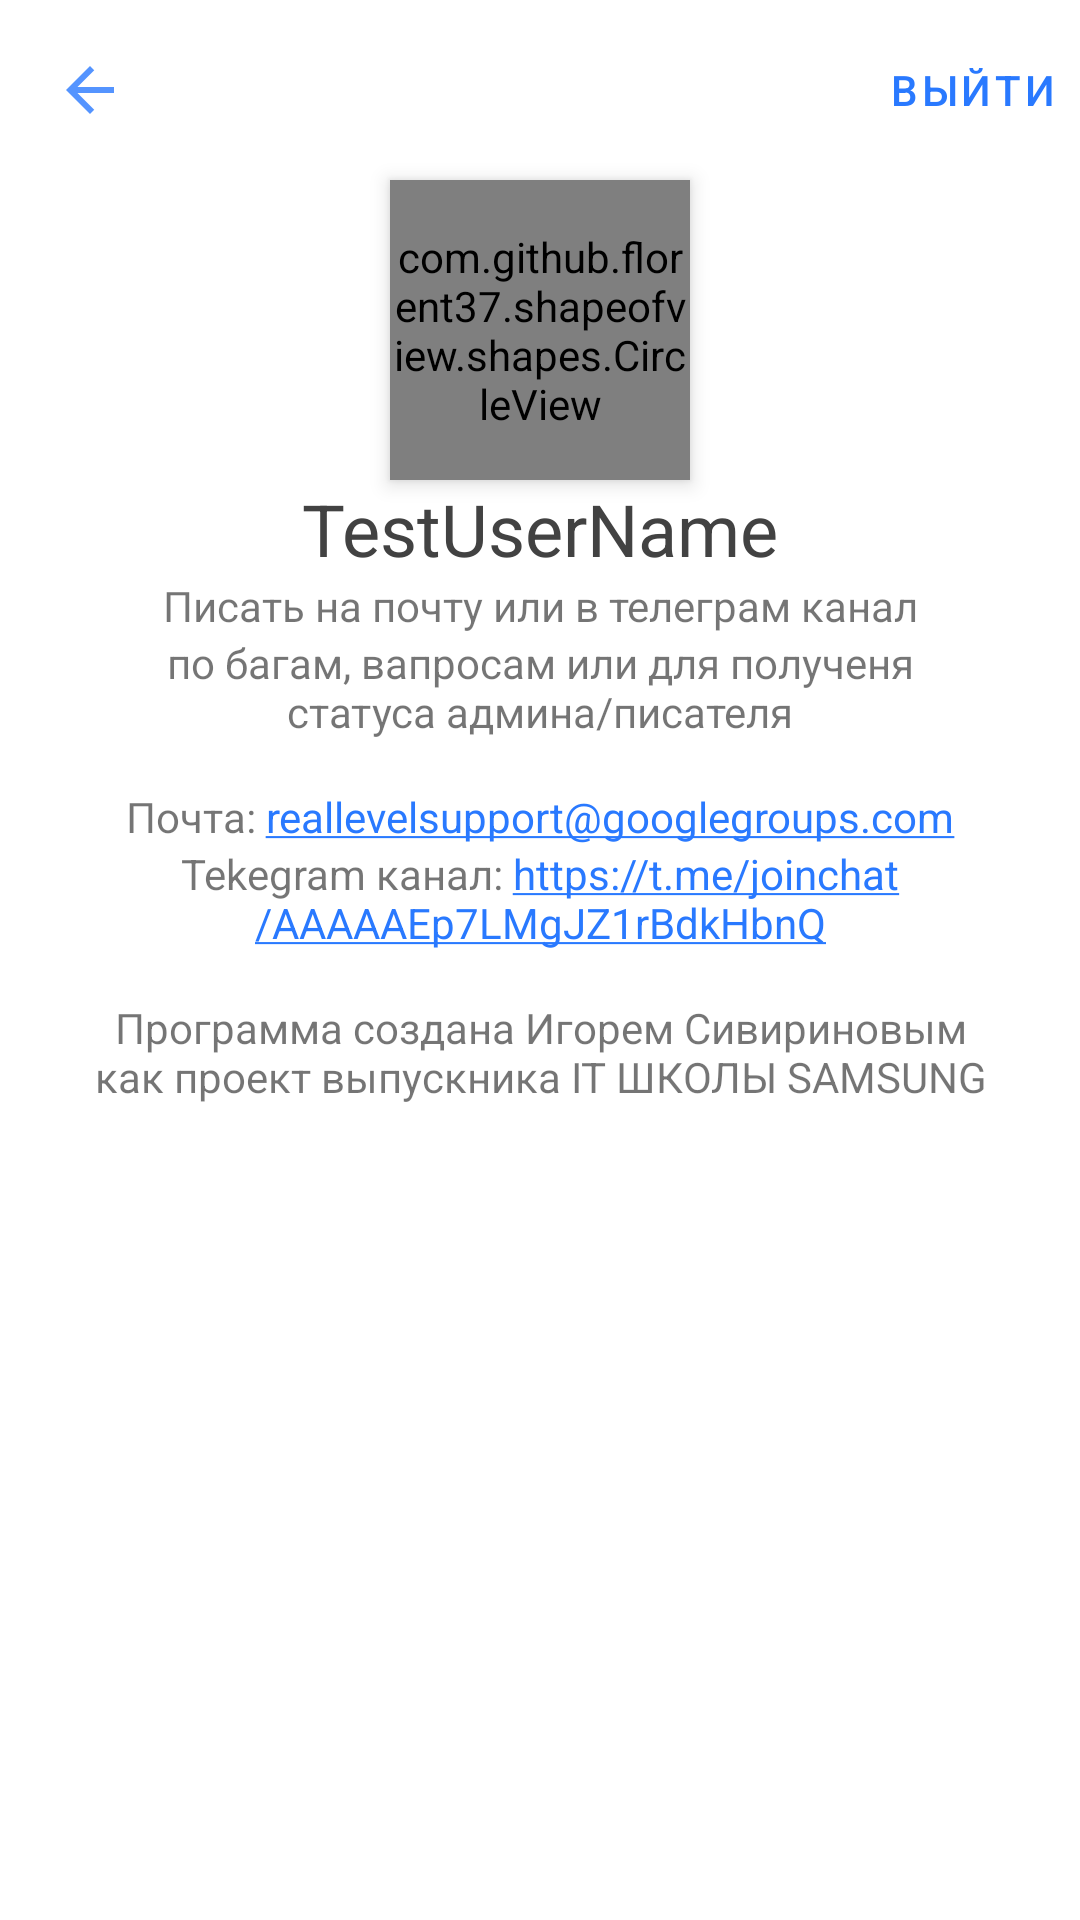

Icons on this 1080px x 1920px Android screen, each with the point to tap as (x=x, y=y):
back: (x=90, y=90)
